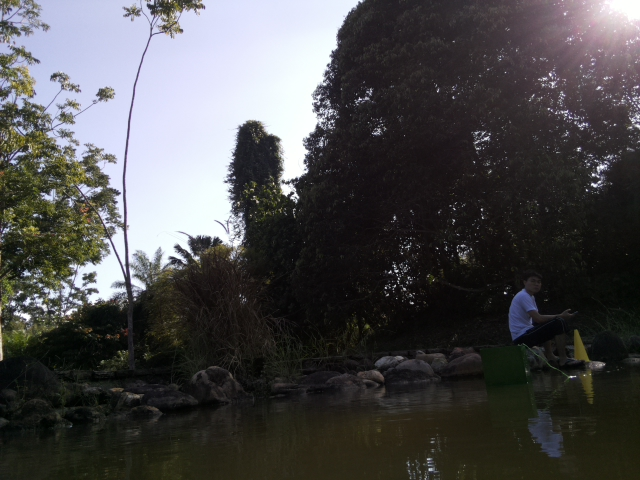checkpoint: (569, 328, 597, 371)
obstacle: (477, 343, 533, 384)
